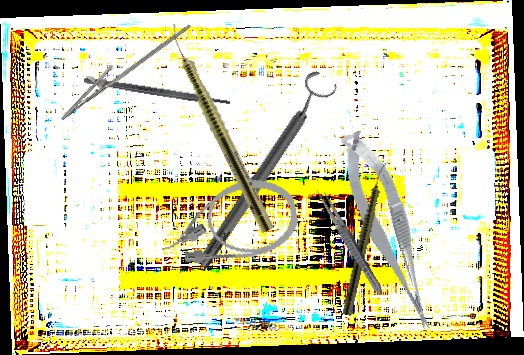Cannula: (151, 171, 304, 276)
Dressing Forceps: (313, 186, 387, 299)
Fixation Ring: (185, 67, 342, 275)
Handpiece: (161, 22, 278, 234), (341, 159, 389, 317)
Micro Scissor: (334, 124, 440, 339)
Needle Holder: (51, 0, 193, 136)
Scalpel Handle: (83, 76, 231, 107)
